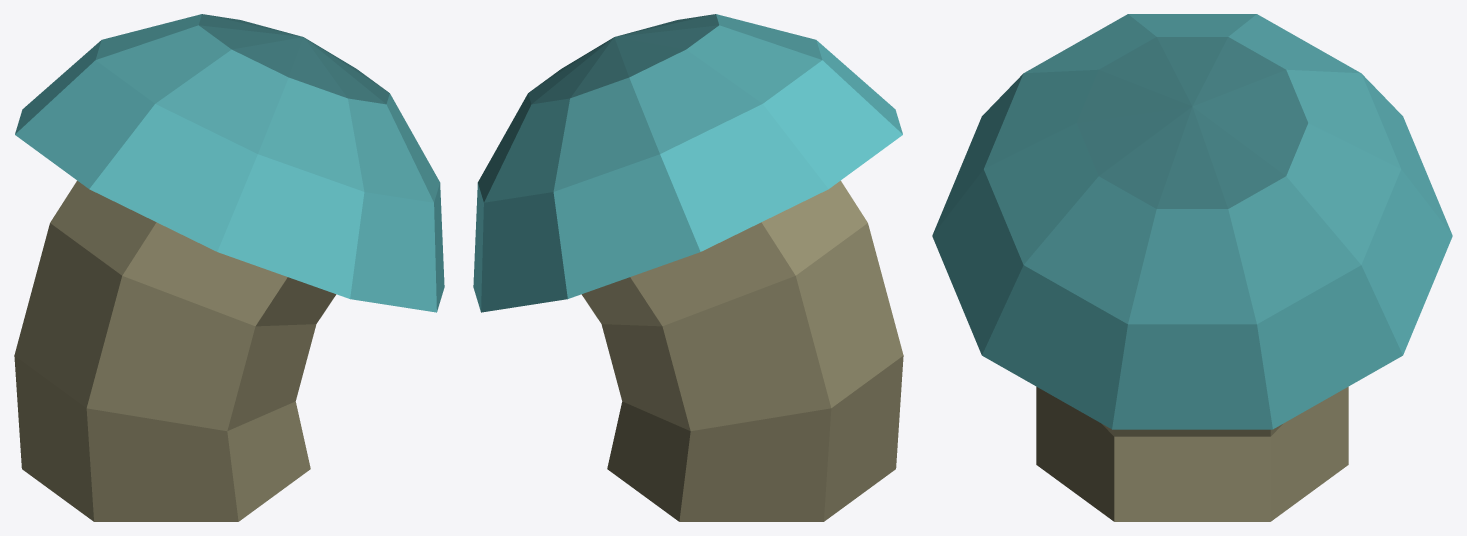
Rendered from Mushroom_3_Cyan.fbx.
3 views of the same model, side by side, from view 1: azimuth 30°, elevation 25°; view 2: azimuth 150°, elevation 25°; view 3: azimuth 270°, elevation 25° (orthographic). The views are drawn at different scales.
Parts seen in each view (by area): view 1: Mushroom_3_Cyan; view 2: Mushroom_3_Cyan; view 3: Mushroom_3_Cyan.
Boxes of the visible parts, x1,y1,x2,y2 form: Mushroom_3_Cyan: (14,14,444,521); Mushroom_3_Cyan: (473,14,903,521); Mushroom_3_Cyan: (932,14,1452,521).
Bounding box in the file's own units: 57.52 × 64.13 × 66.69.
